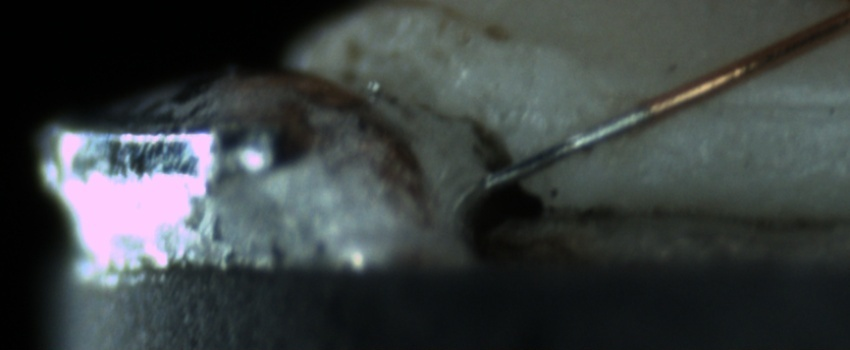DL: (701, 68, 849, 131)
TS: (481, 102, 654, 189)
